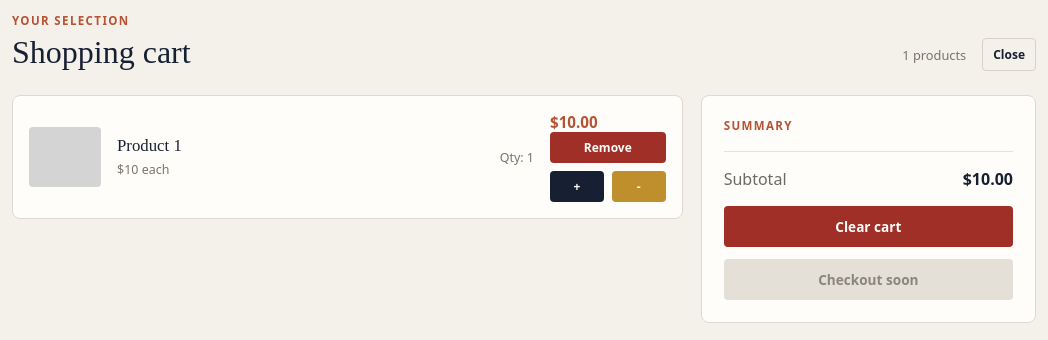
Test: Cart › increases the item quantity when clicking +
Click the button "+". click: {"x": 577, "y": 186}
box: [550,171,604,202]
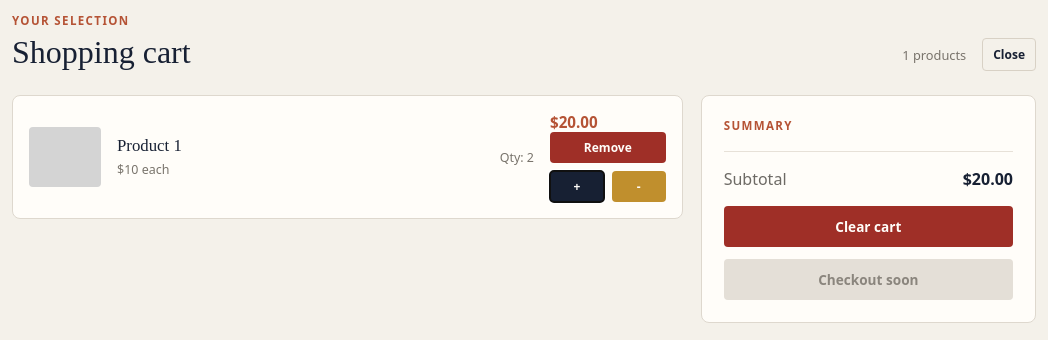
Now the text "Qty: 2" is shown, box [500,148,534,166]
